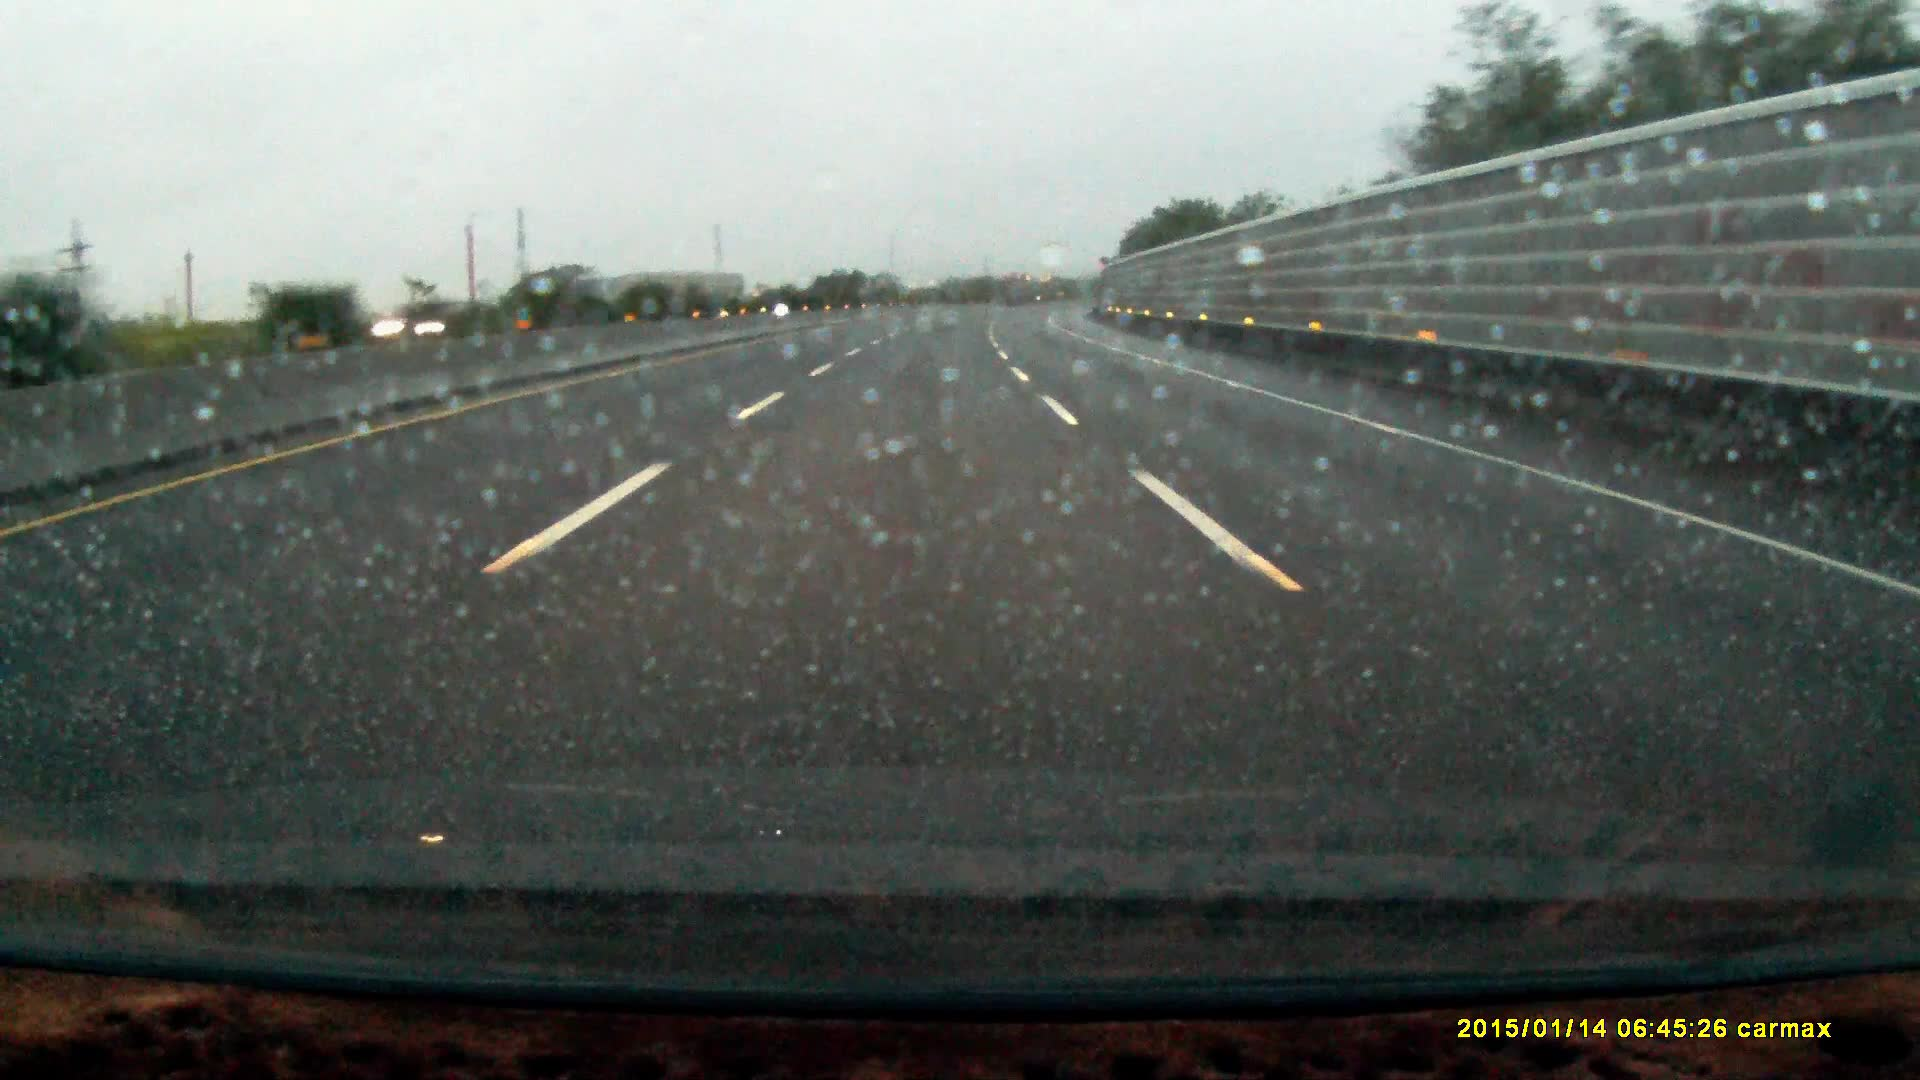vehicle: (367, 301, 502, 343)
